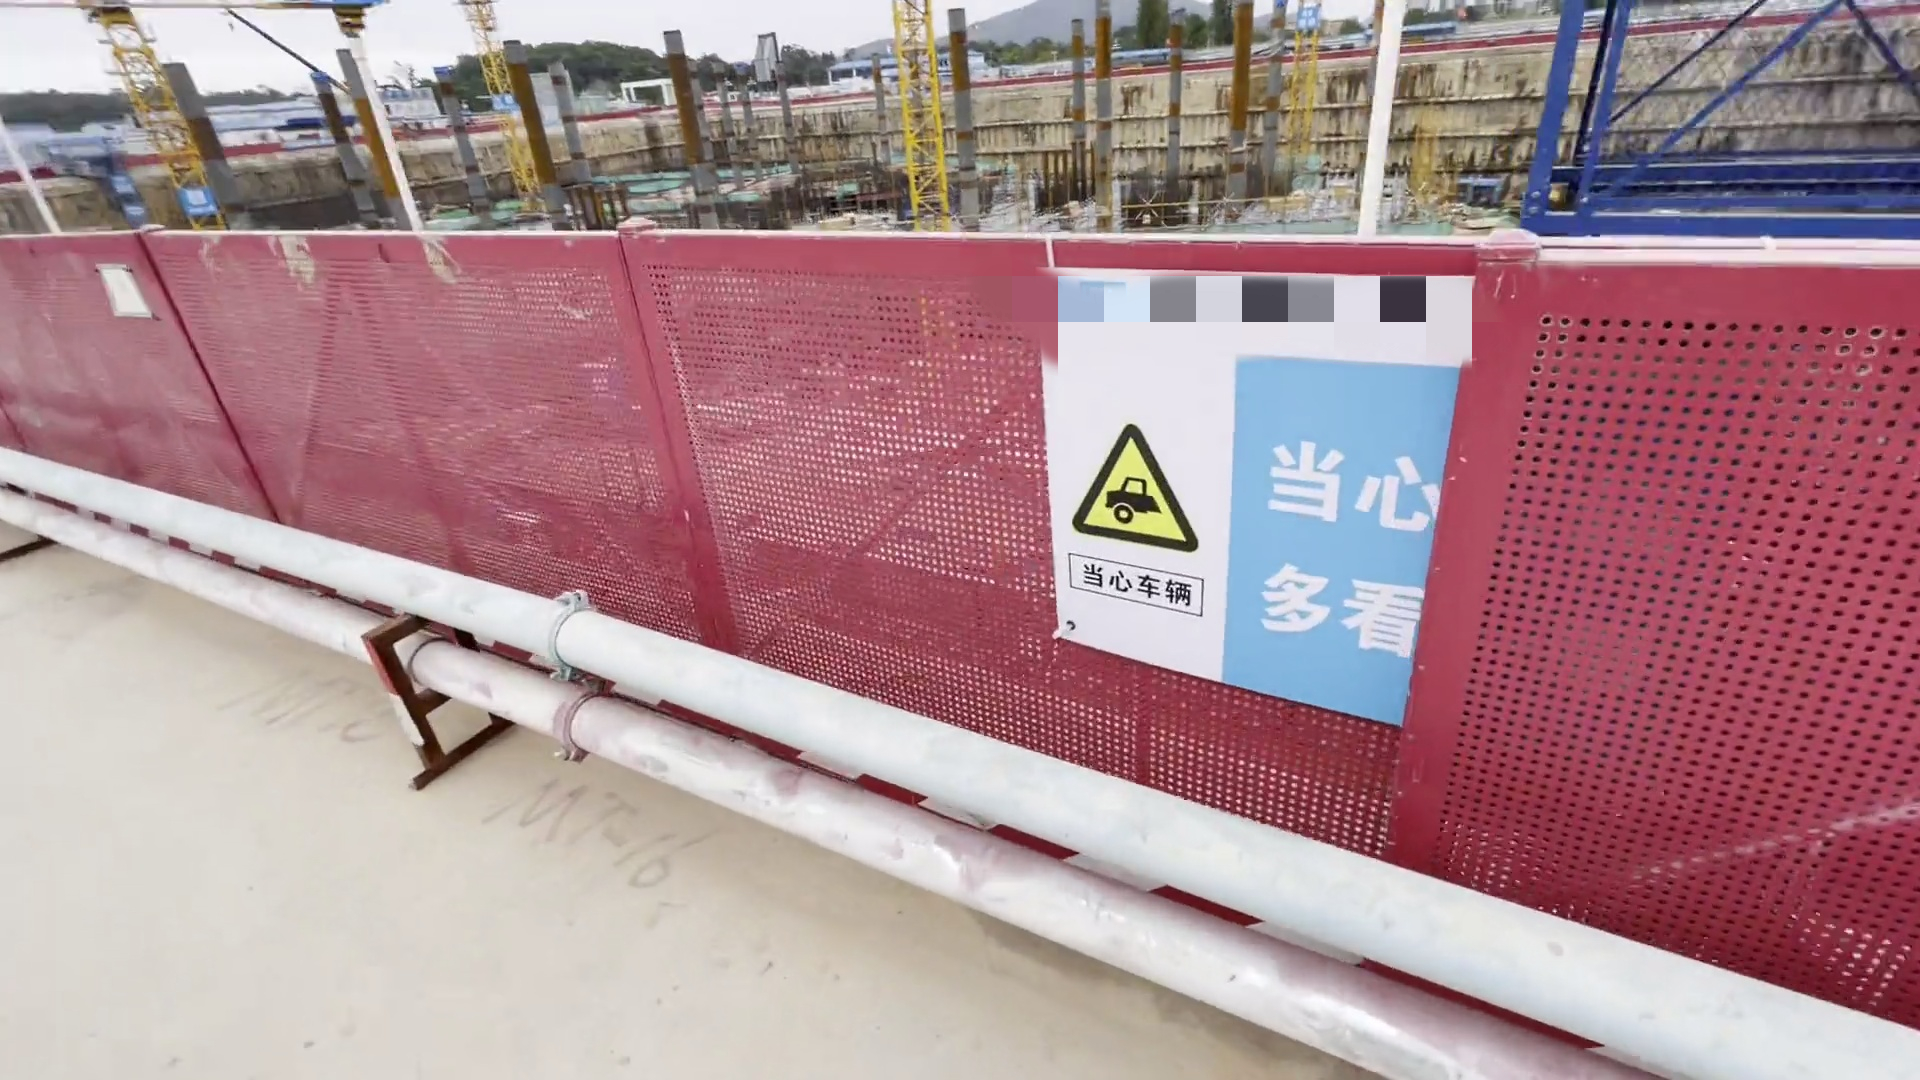fence: (1, 175, 1882, 992)
slogan: (1027, 252, 1491, 745), (102, 170, 161, 233), (179, 182, 224, 222), (491, 76, 524, 117)
